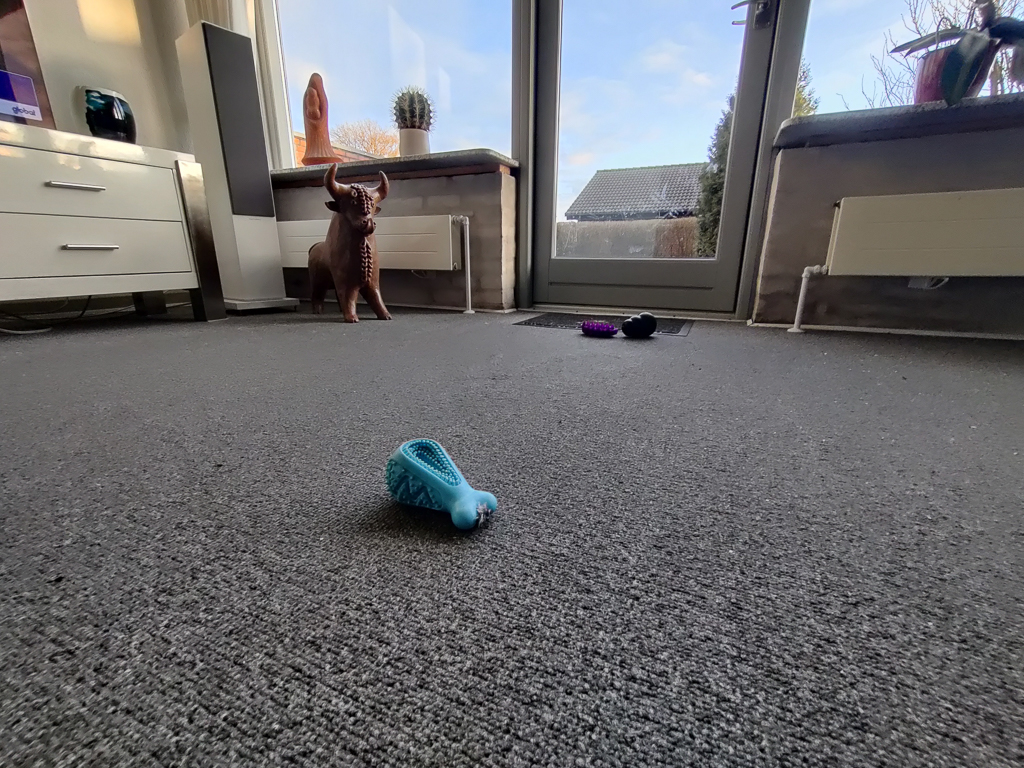Cattle: (298, 155, 406, 335)
Humanoid: (295, 67, 347, 162)
